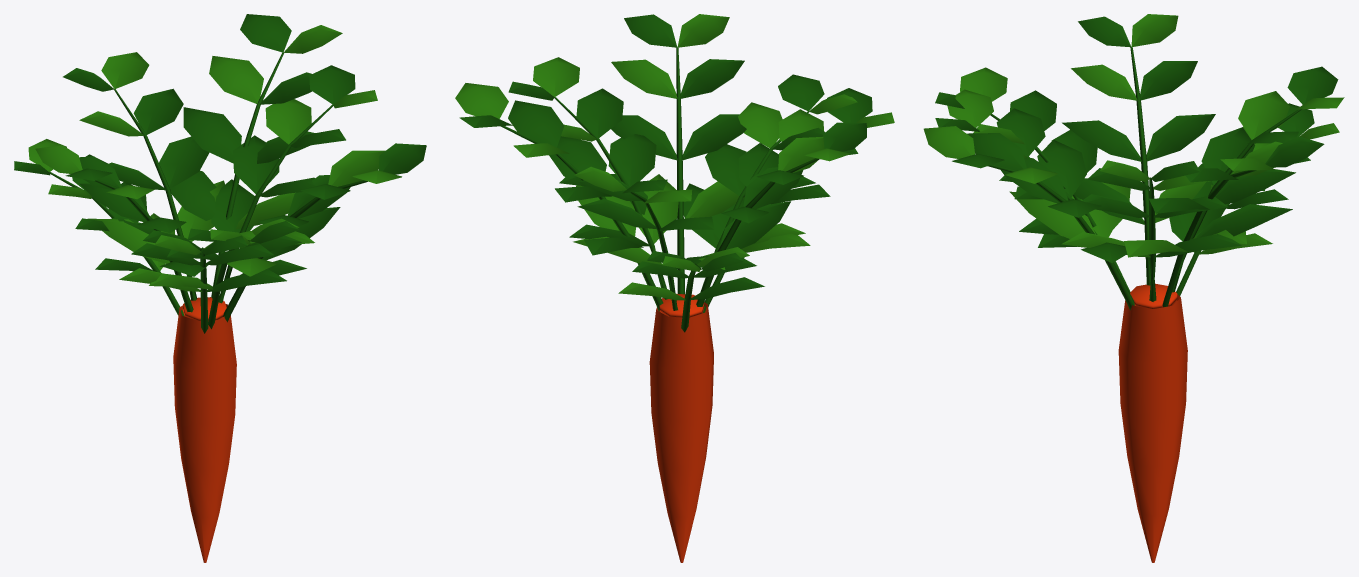
File: Carrot_4.obj
3 views of the same model, side by side, from view 1: azimuth 30°, elevation 25°; view 2: azimuth 150°, elevation 25°; view 3: azimuth 270°, elevation 25° (orthographic). The views are drawn at different scales.
Parts seen in each view (by area): view 1: Carrot_4; view 2: Carrot_4; view 3: Carrot_4.
Boxes of the visible parts, <box> form: Carrot_4: <box>14,14,426,562</box>; Carrot_4: <box>455,14,894,562</box>; Carrot_4: <box>923,14,1344,562</box>.
Size of the model in its own units: 0.5368 by 0.6963 by 0.5473.
